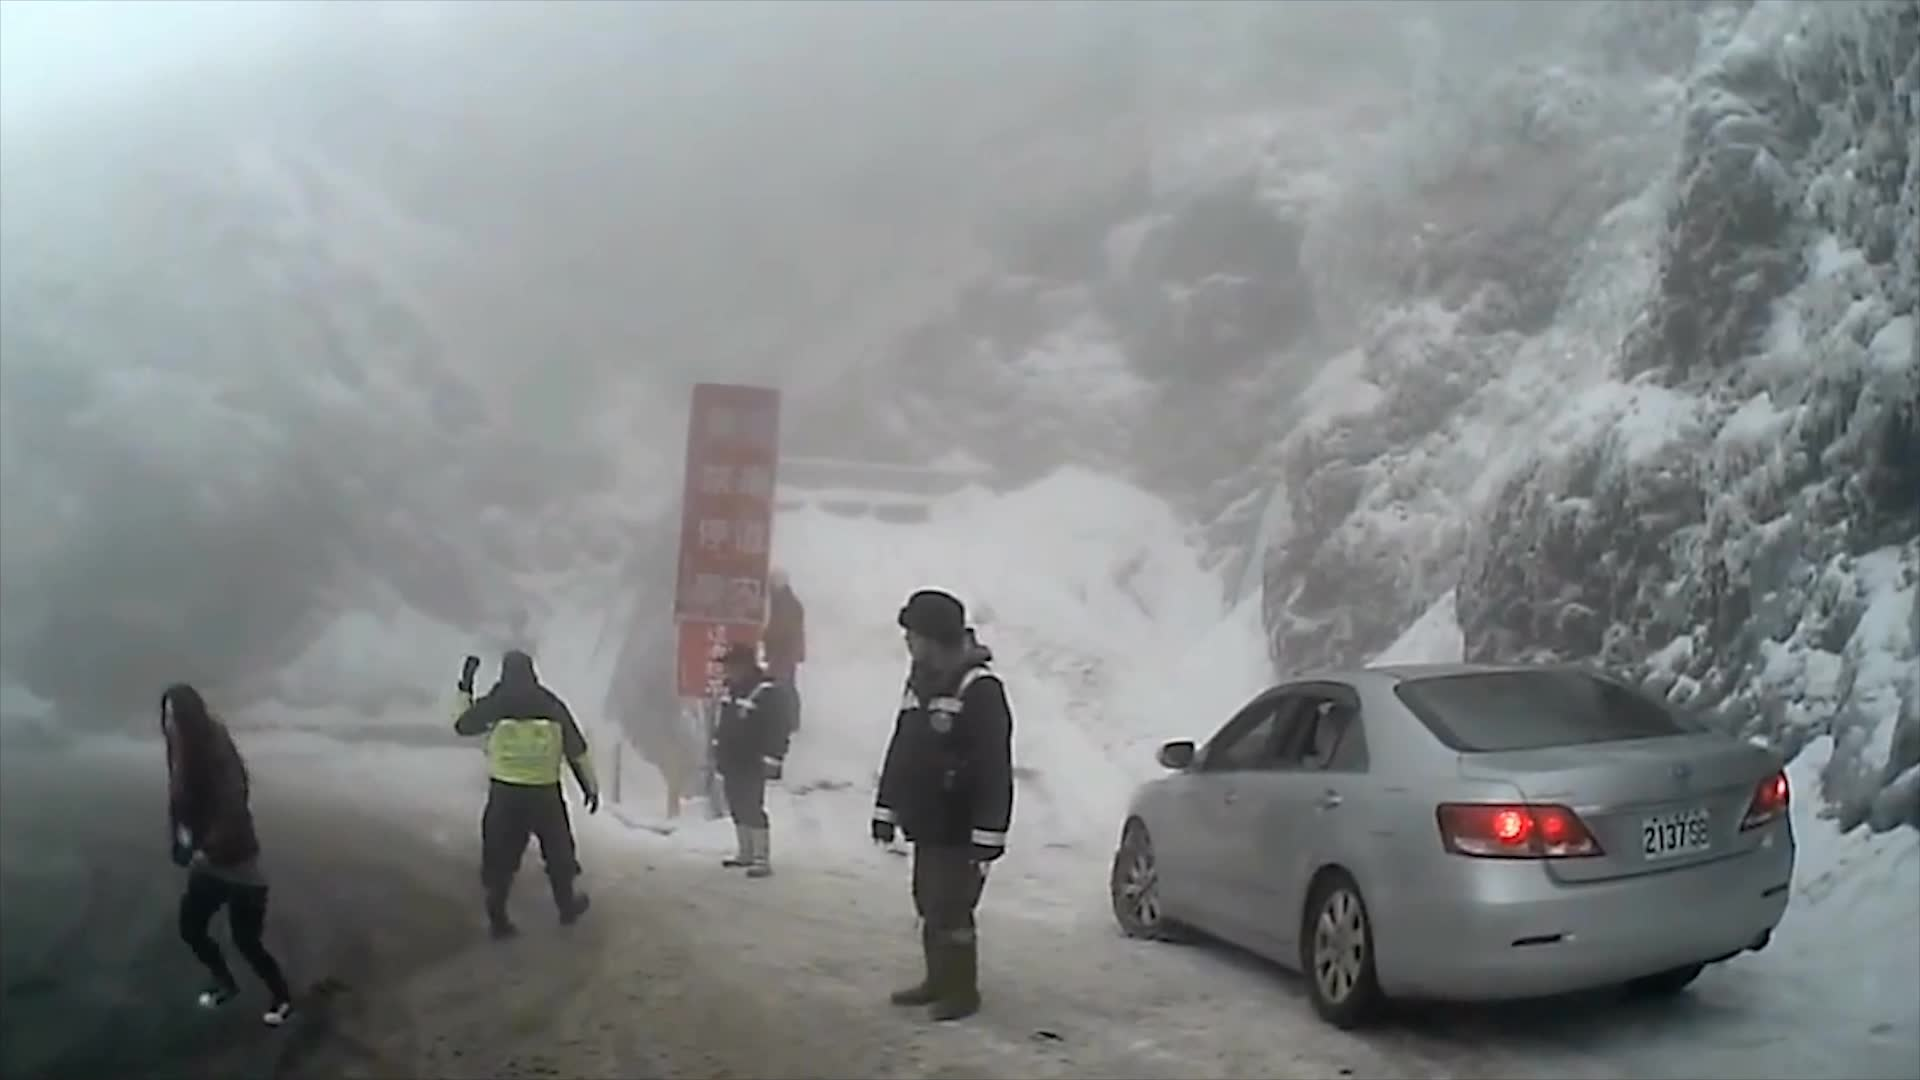pedestrian: (870, 585, 1023, 1024), (170, 687, 302, 1030), (453, 655, 596, 938), (710, 640, 796, 880), (744, 565, 811, 737)
vehicle: (1109, 659, 1796, 1025)
